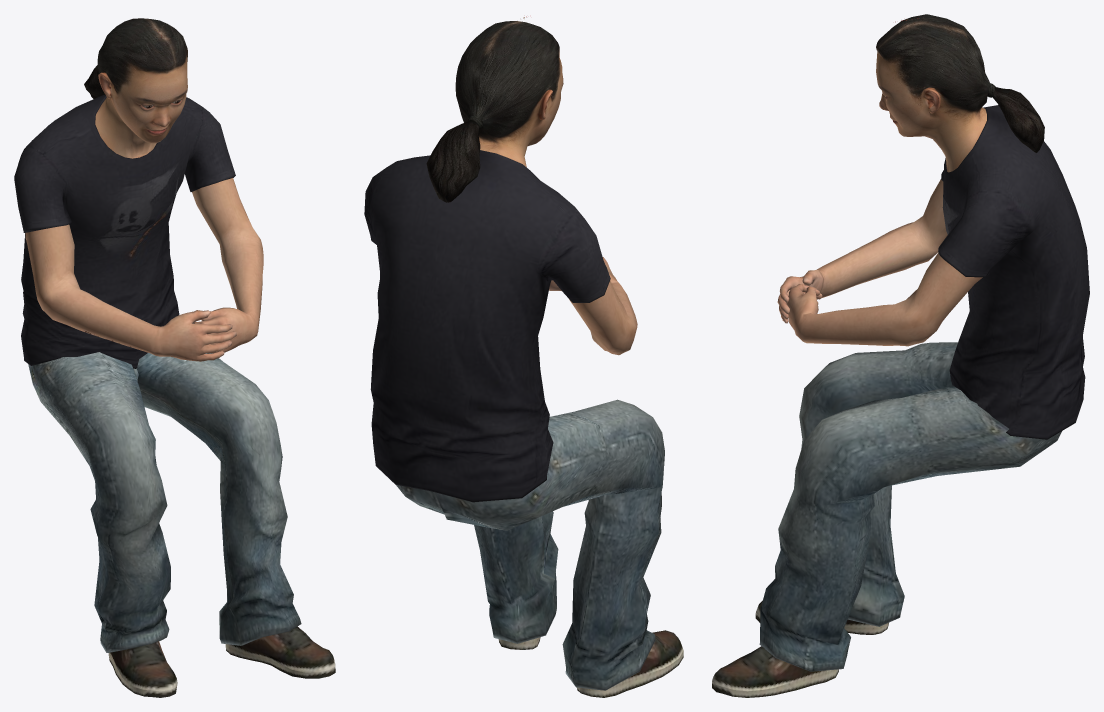
Rendered from Male_Adult_09.glb.
The picture shows the model from 3 angles, left to right: view 1: azimuth 30°, elevation 25°; view 2: azimuth 150°, elevation 25°; view 3: azimuth 270°, elevation 25°; orthographic projection. The views are drawn at different scales.
Parts seen in each view (by area): view 1: Male_Adult_09; view 2: Male_Adult_09; view 3: Male_Adult_09.
Boxes of the visible parts, x1,y1,x2,y2 form: Male_Adult_09: [14, 18, 335, 697]; Male_Adult_09: [364, 16, 683, 697]; Male_Adult_09: [712, 14, 1089, 697].
Bounding box in the file's own units: 0.5305 × 1.45 × 0.7782.
Materials: 3 (3 with a texture image).
